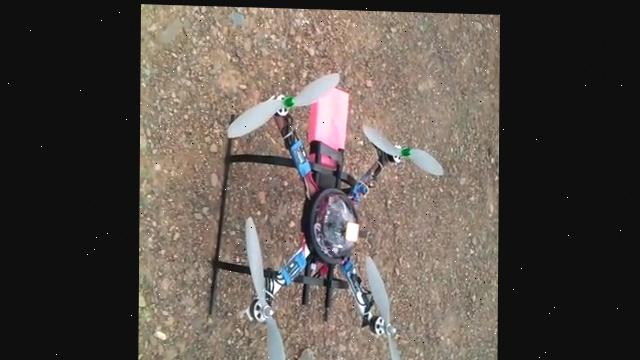drone: (206, 67, 448, 360)
